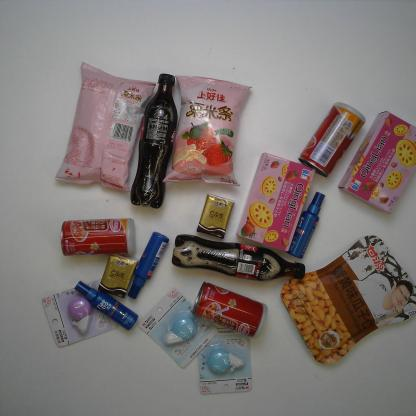Canned Food: (297, 98, 371, 180), (187, 282, 275, 340), (55, 214, 140, 259)
Dessert: (335, 105, 415, 216), (233, 148, 317, 253)
Dried Fruit: (277, 232, 416, 369)
Drink: (126, 70, 183, 212), (166, 233, 313, 282)
Personal Hygiene: (69, 280, 139, 332), (125, 230, 171, 300), (284, 185, 325, 260)
Puffed Food: (50, 57, 160, 197), (160, 69, 254, 189)
Stationery: (134, 284, 221, 371), (40, 276, 124, 351), (192, 327, 258, 398)
Tissue: (95, 252, 141, 302), (196, 194, 238, 242)
